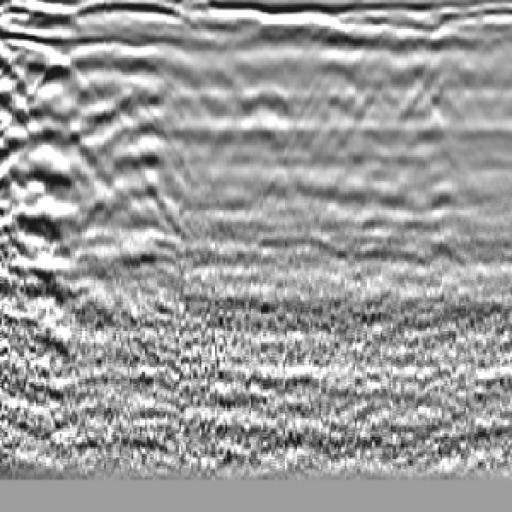non-metallic: (4, 27, 145, 246)
